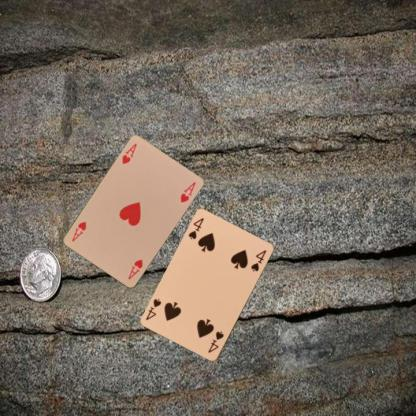4s: (186, 215, 205, 241), (206, 329, 225, 354)
Ah: (125, 257, 144, 281), (120, 141, 138, 166)
